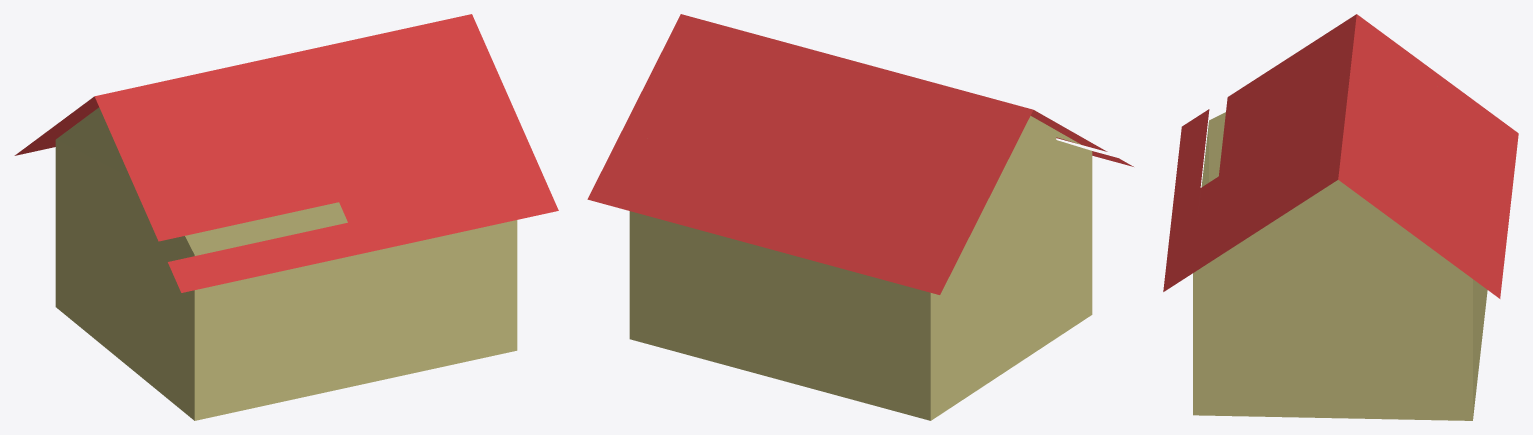
The picture shows the model from 3 angles, left to right: view 1: azimuth 30°, elevation 25°; view 2: azimuth 150°, elevation 25°; view 3: azimuth 270°, elevation 25°; orthographic projection. The views are drawn at different scales.
Bounding box in the file's own units: 14.27 × 12.43 × 9.67.
